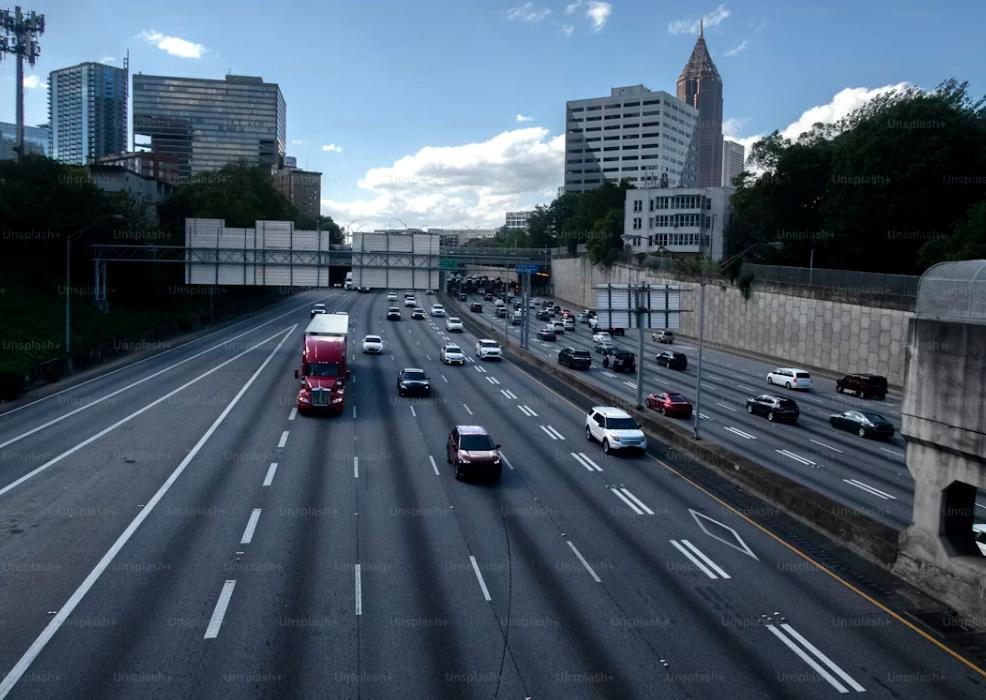Car: (447, 426, 501, 480), (585, 406, 646, 453), (830, 410, 894, 438), (746, 394, 799, 422), (836, 375, 887, 399), (646, 392, 692, 417), (767, 368, 811, 388), (398, 368, 429, 395), (558, 347, 591, 369), (603, 350, 636, 371), (656, 351, 686, 369), (476, 340, 501, 359), (440, 346, 465, 364), (973, 525, 985, 555), (362, 336, 382, 353), (594, 341, 616, 356), (652, 330, 673, 343), (311, 303, 328, 318), (537, 328, 556, 340), (446, 317, 462, 331), (592, 331, 611, 342), (411, 307, 426, 320), (431, 304, 445, 317), (387, 307, 401, 320), (551, 321, 565, 333), (563, 316, 575, 330), (510, 311, 522, 324), (578, 312, 590, 324), (495, 307, 508, 318), (560, 309, 572, 319), (540, 300, 552, 309), (470, 303, 482, 312), (537, 311, 549, 320), (494, 299, 505, 308), (404, 297, 415, 306), (552, 304, 561, 313), (484, 293, 494, 301), (357, 286, 370, 292), (529, 298, 540, 305), (507, 291, 515, 299), (388, 292, 396, 300), (528, 300, 535, 308), (459, 294, 466, 300), (514, 303, 521, 309), (334, 282, 342, 287), (426, 289, 433, 294)
Trucks: (295, 312, 349, 412)
